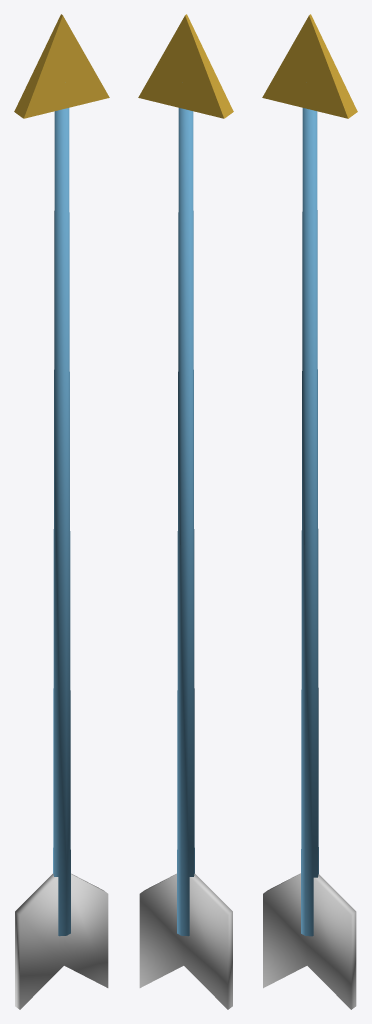
File: Arrow.fbx
3 renders of one model, left to right at view 1: azimuth 30°, elevation 25°; view 2: azimuth 150°, elevation 25°; view 3: azimuth 330°, elevation 25°, orthographic.
Parts seen in each view (by area): view 1: Arrow; view 2: Arrow; view 3: Arrow.
Part boxes in pixels (box(x1,y1,x2,y2)): Arrow: box(14, 14, 109, 1009); Arrow: box(138, 14, 233, 1009); Arrow: box(262, 14, 357, 1009).
Size of the model in its own units: 157 by 1670 by 29.39.
